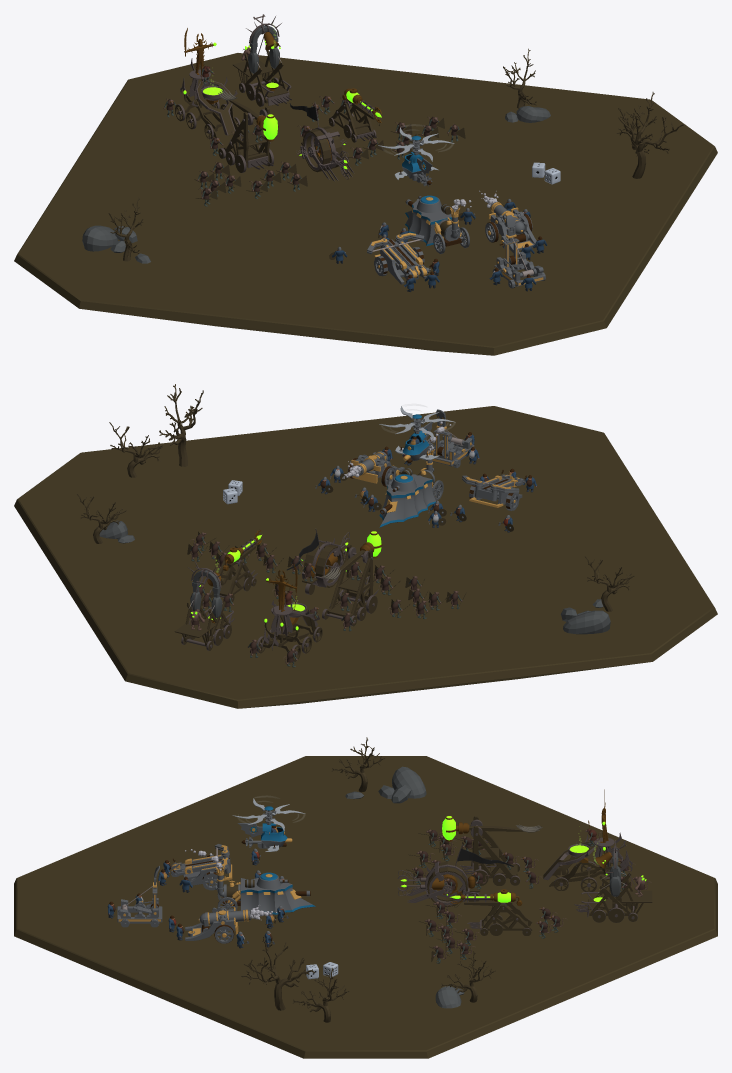
The picture shows the model from 3 angles, top to bottom: view 1: azimuth 30°, elevation 25°; view 2: azimuth 150°, elevation 25°; view 3: azimuth 270°, elevation 25°; orthographic projection. The views are drawn at different scales.
Visible parts, largest first — view 1: ground, ScavenAltar01:ScavenAltar1, DarkElvesAltar01:DarkElvesAltar01, Scaven_catapult, EmpireTank01:EmpireTank, SkavenWheel1, DwarvenBallista1, ScavenCannon1, DwarfCannon0101:DwarfCannon1, DwarfCatapult01:DwarfCatapult1, DwarfChopper1, group21 (+3 smaller); view 2: ground, Scaven_catapult, DarkElvesAltar01:DarkElvesAltar01, EmpireTank01:EmpireTank, ScavenAltar01:ScavenAltar1, SkavenWheel1, DwarvenBallista1, ScavenCannon1, DwarfChopper1, DwarfCatapult01:DwarfCatapult1, DwarfCannon0101:DwarfCannon1, group21 (+4 smaller); view 3: ground, EmpireTank01:EmpireTank, ScavenAltar01:ScavenAltar1, Scaven_catapult, DarkElvesAltar01:DarkElvesAltar01, SkavenWheel1, ScavenCannon1, DwarfCannon0101:DwarfCannon1, DwarfChopper1, DwarvenBallista1, DwarfCatapult01:DwarfCatapult1, group21 (+4 smaller).
Part boxes in pixels (<box>): ground: <box>14,53,717,355</box>; ScavenAltar01:ScavenAltar1: <box>233,14,291,106</box>; DarkElvesAltar01:DarkElvesAltar01: <box>175,28,240,139</box>; Scaven_catapult: <box>218,90,278,173</box>; EmpireTank01:EmpireTank: <box>405,195,469,254</box>; SkavenWheel1: <box>289,101,354,181</box>; DwarvenBallista1: <box>367,232,431,284</box>; ScavenCannon1: <box>328,88,381,142</box>; DwarfCannon0101:DwarfCannon1: <box>485,202,537,254</box>; DwarfCatapult01:DwarfCatapult1: <box>492,215,545,288</box>; DwarfChopper1: <box>378,127,454,186</box>; group21: <box>616,115,683,178</box>; ground: <box>14,406,717,708</box>; Scaven_catapult: <box>321,531,382,626</box>; DarkElvesAltar01:DarkElvesAltar01: <box>256,564,322,661</box>; EmpireTank01:EmpireTank: <box>379,449,443,527</box>; ScavenAltar01:ScavenAltar1: <box>174,560,234,650</box>; SkavenWheel1: <box>287,528,350,594</box>; DwarvenBallista1: <box>462,470,526,510</box>; ScavenCannon1: <box>209,530,261,602</box>; DwarfChopper1: <box>379,406,455,462</box>; DwarfCatapult01:DwarfCatapult1: <box>423,409,475,467</box>; DwarfCannon0101:DwarfCannon1: <box>347,451,404,486</box>; group21: <box>159,384,203,466</box>; ground: <box>14,756,717,1058</box>; EmpireTank01:EmpireTank: <box>215,865,315,914</box>; ScavenAltar01:ScavenAltar1: <box>574,840,652,922</box>; Scaven_catapult: <box>442,815,542,885</box>; DarkElvesAltar01:DarkElvesAltar01: <box>543,789,632,892</box>; SkavenWheel1: <box>398,844,513,906</box>; ScavenCannon1: <box>450,889,532,935</box>; DwarfCannon0101:DwarfCannon1: <box>185,907,250,943</box>; DwarfChopper1: <box>232,798,305,851</box>; DwarvenBallista1: <box>170,844,232,890</box>; DwarfCatapult01:DwarfCatapult1: <box>117,866,162,927</box>; group21: <box>241,936,314,1010</box>.
Size of the model in its own units: 227 by 63.09 by 227.
